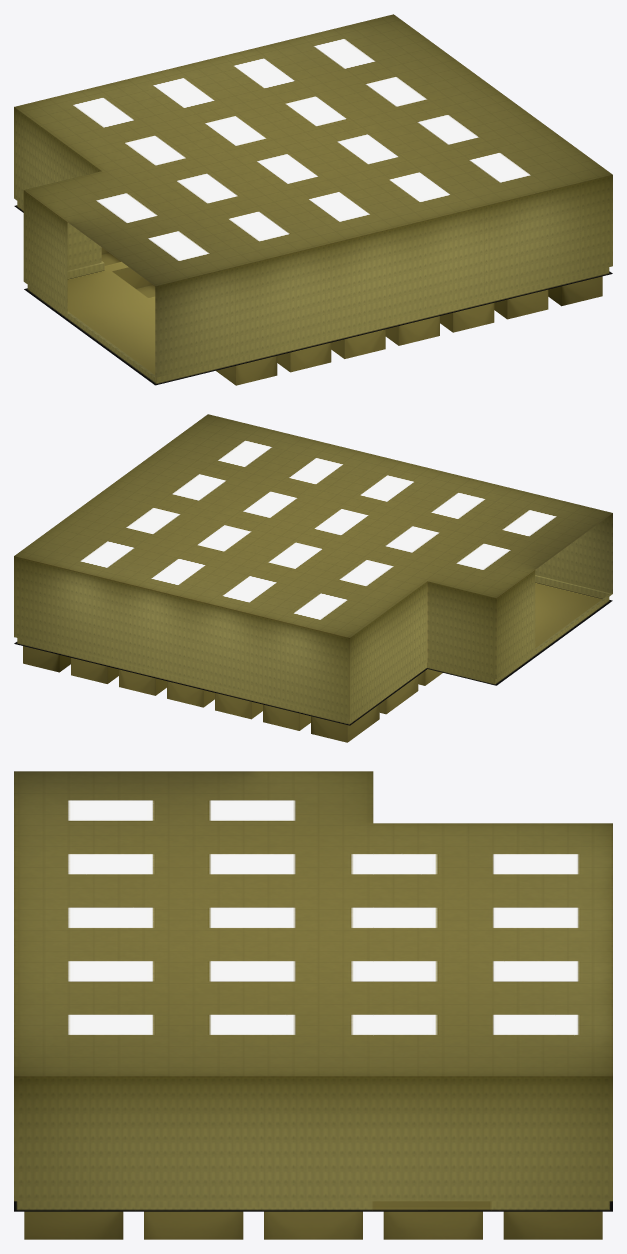
File: backrooms_vr_room_baked.glb
3 views of the same model, one above another, from view 1: azimuth 30°, elevation 25°; view 2: azimuth 150°, elevation 25°; view 3: azimuth 270°, elevation 25° (orthographic). The views are drawn at different scales.
Visible parts, largest first — view 1: Plane_0; view 2: Plane_0; view 3: Plane_0.
Boxes of the visible parts, bbox=[...] form: Plane_0: bbox=[14, 14, 612, 385]; Plane_0: bbox=[14, 414, 612, 742]; Plane_0: bbox=[14, 771, 612, 1239].
Size of the model in its own units: 4.82 by 1.23 by 4.
2 materials, 1 textured.
